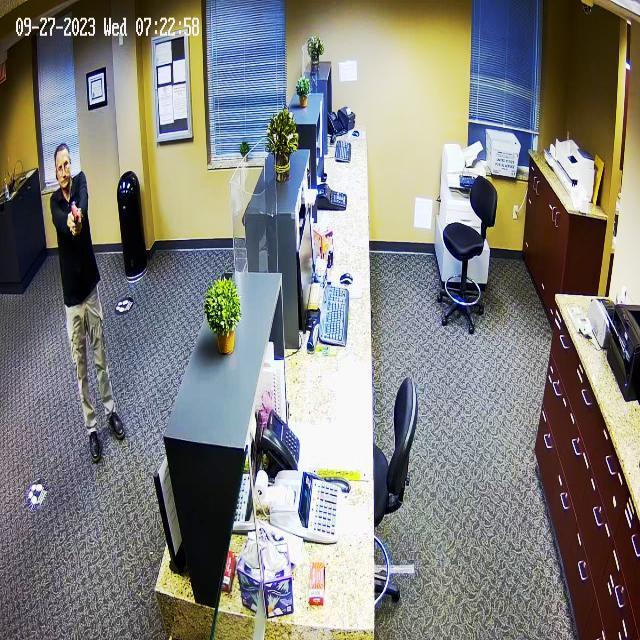Gun: (63, 198, 90, 234)
